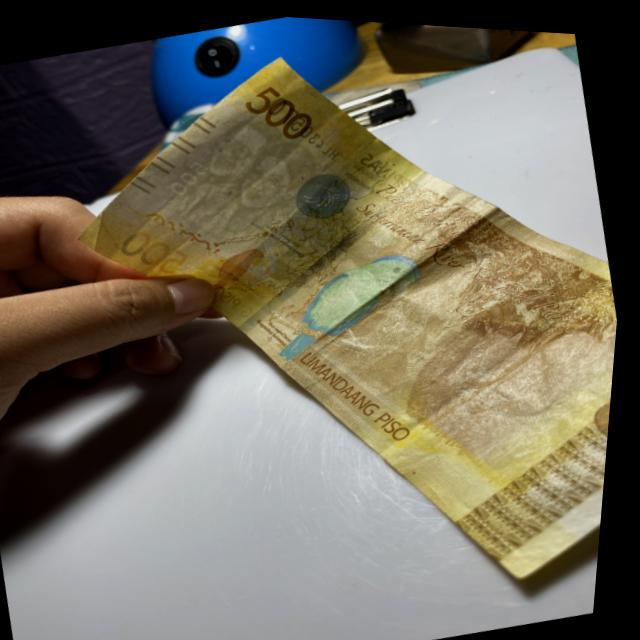500_big_parrot: (263, 233, 440, 367)
500_parrot_watermark: (212, 238, 275, 290)
value_watermark: (164, 153, 219, 198)
watermark: (168, 106, 322, 245)
